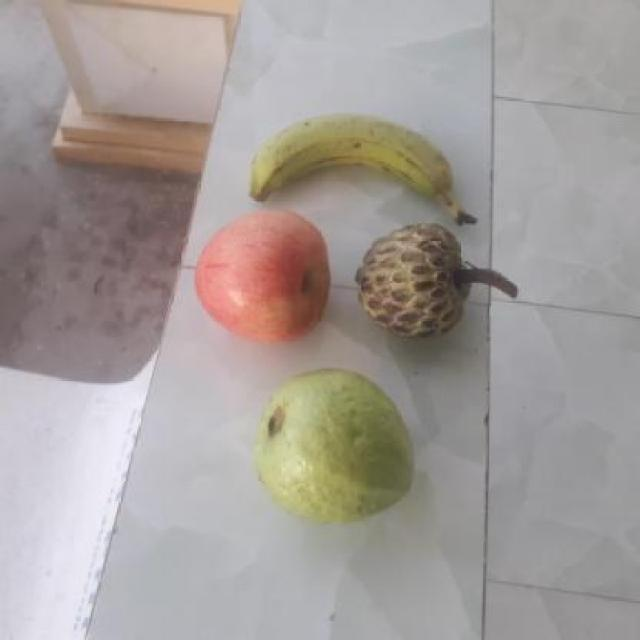apple: (190, 209, 336, 343)
guava: (245, 369, 408, 523)
sugar apple: (349, 226, 476, 339)
